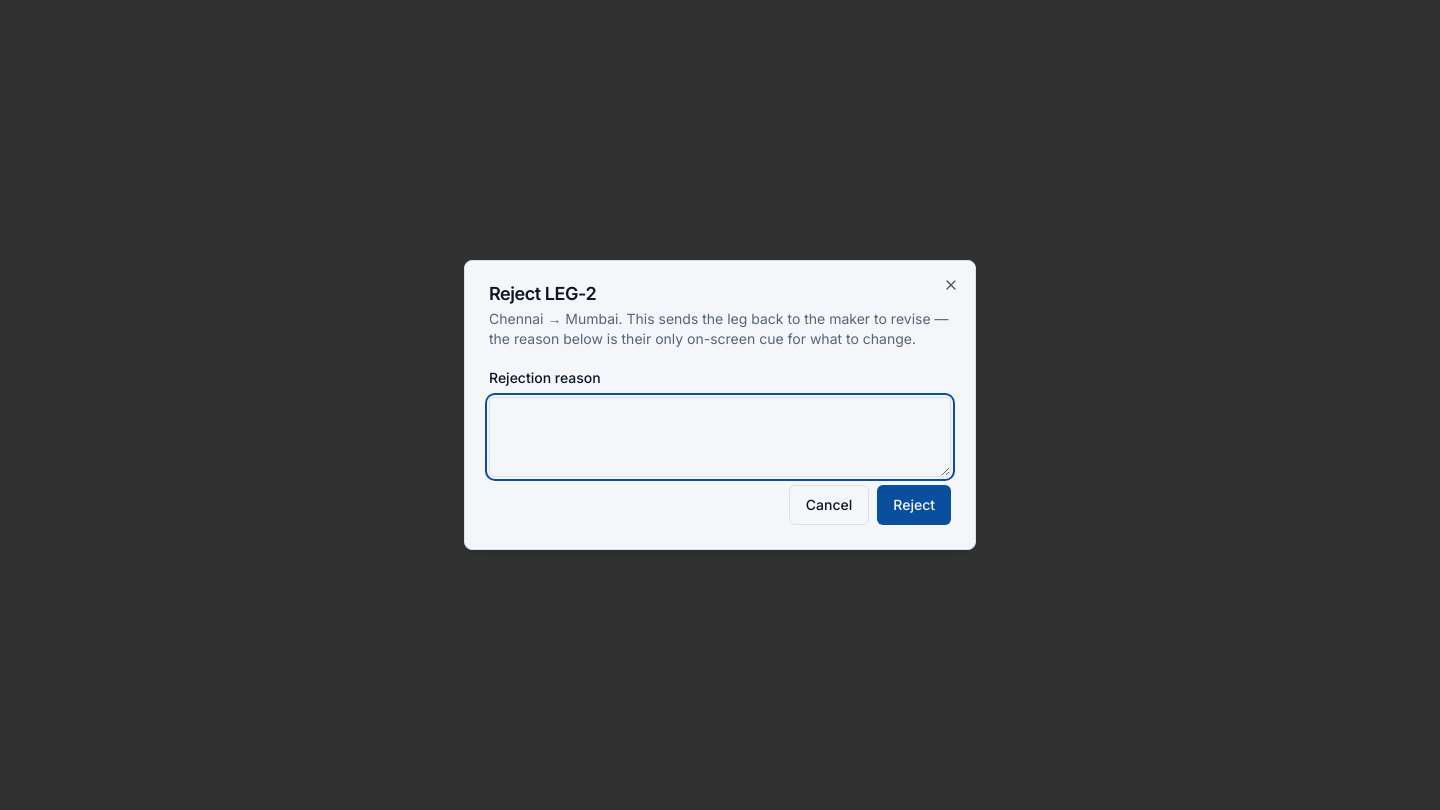
it: RejectDialog › blocks submit and shows a visible error when the reason is left empty
Click the button "Reject": (914,505) x1=877 y1=485 x2=951 y2=525
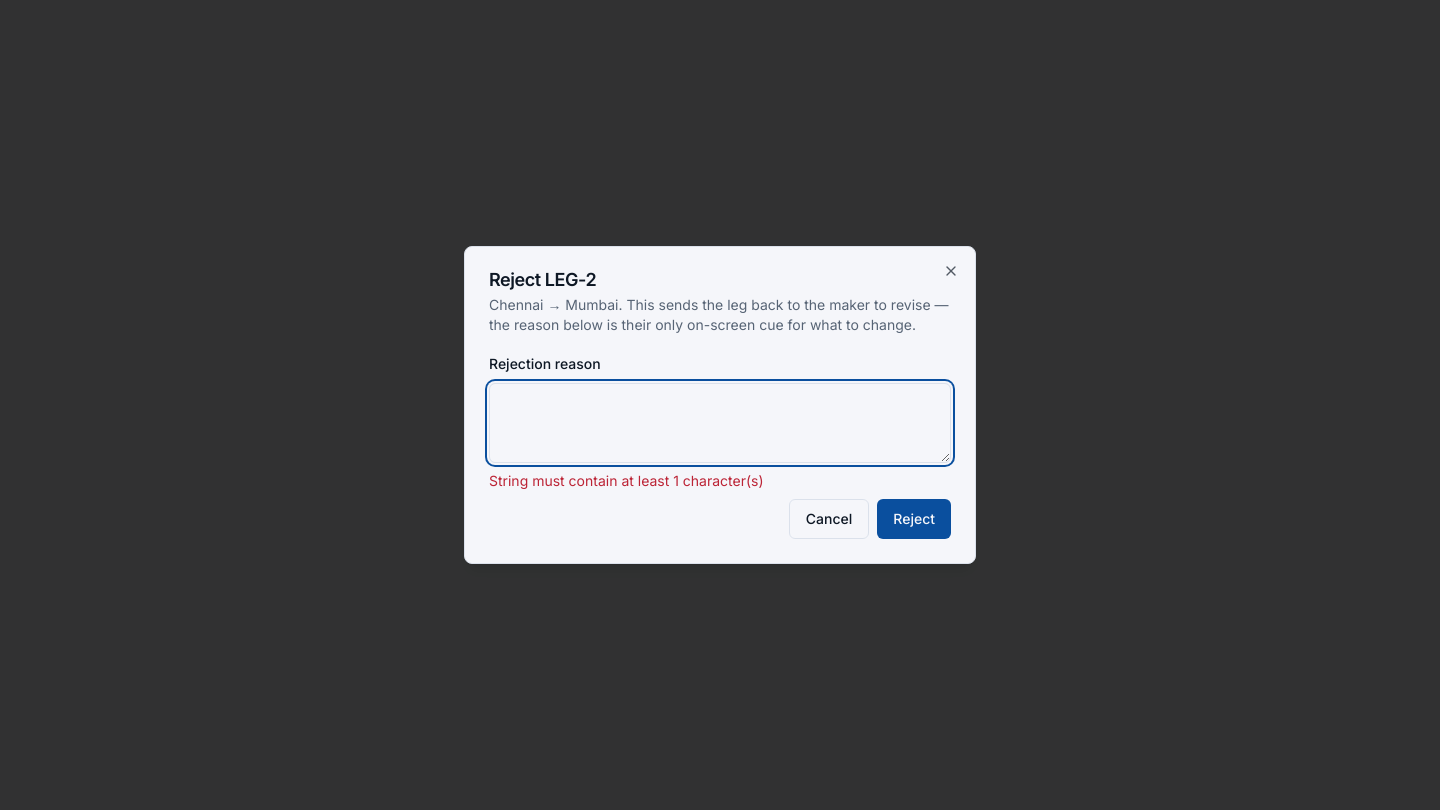
Check: the message "String must contain at least 1 character(s)" is shown, box x1=489 y1=472 x2=764 y2=489
